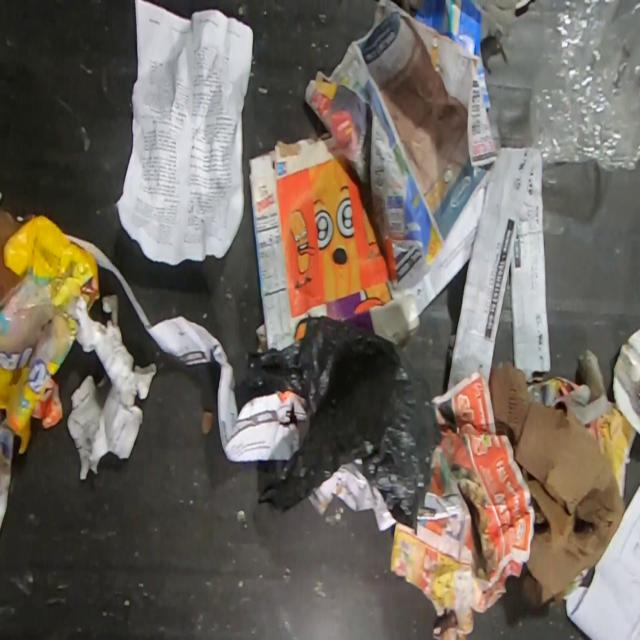cardboard: (248, 131, 421, 351), (488, 359, 626, 610), (0, 209, 23, 301)
soft_plastic: (243, 312, 443, 535), (0, 212, 100, 455), (529, 0, 640, 190)
